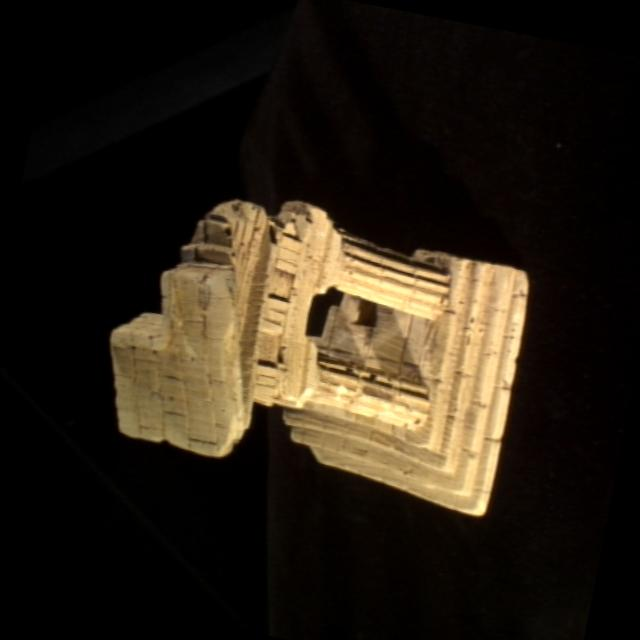Instance-Segmentation: (111, 200, 526, 513)
